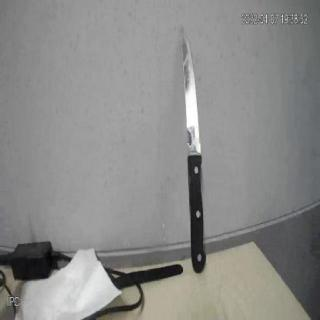knife: (172, 19, 218, 275)
